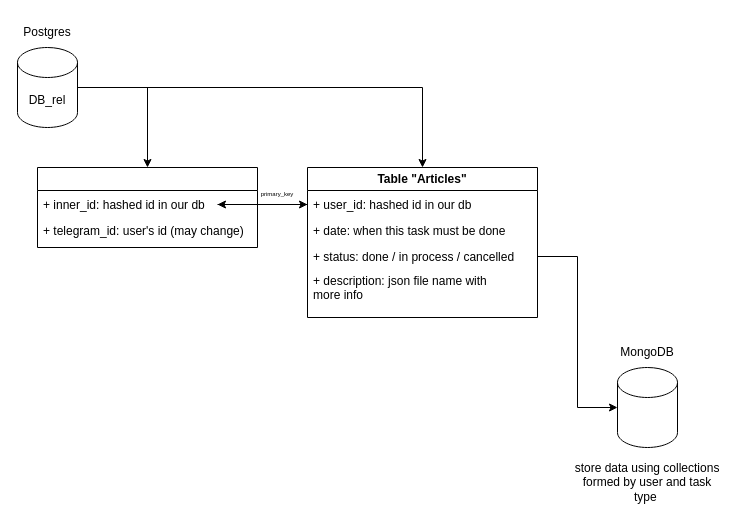
Image size: 740x521. Some labels were removed from this diagram. Each missing label, with the box of its shape:
DB_nonrel: (616, 366, 678, 448)
Table "Connections": (36, 166, 258, 248)
